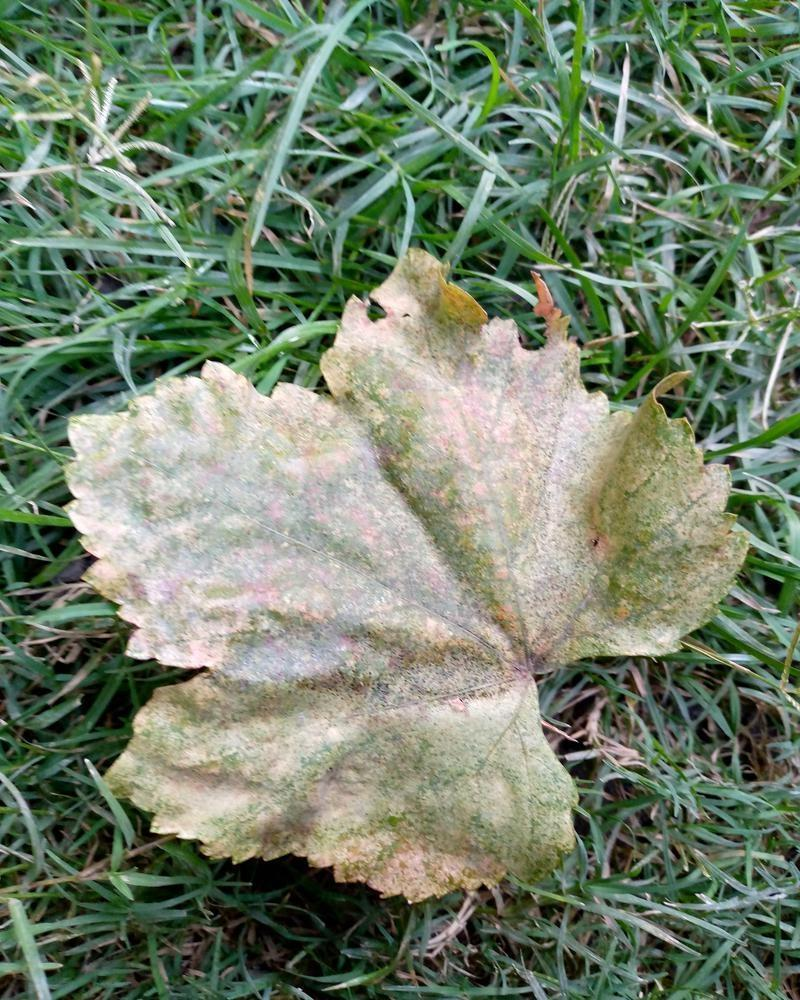Powdery-Mildew: (63, 378, 443, 682), (335, 263, 623, 578), (123, 691, 499, 902), (408, 613, 563, 804), (609, 453, 740, 663), (415, 752, 519, 839), (315, 525, 396, 622), (187, 527, 236, 535), (504, 492, 516, 515), (191, 628, 202, 636)
